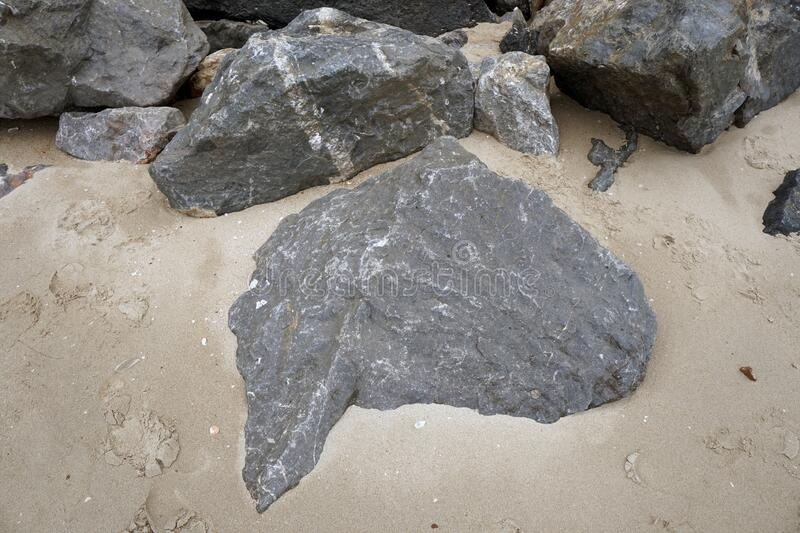obstacle: (0, 86, 799, 531)
